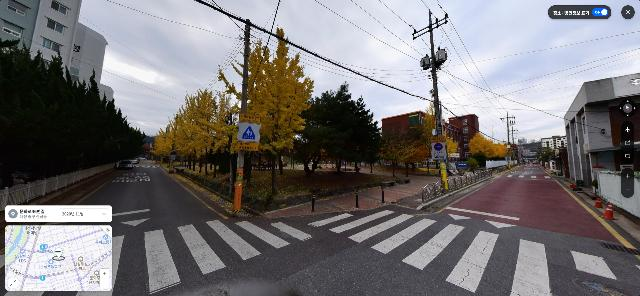ginkgo: (216, 26, 314, 198), (196, 97, 236, 181), (188, 88, 220, 176), (422, 101, 460, 173), (179, 93, 207, 174), (171, 105, 195, 171), (378, 127, 406, 177), (163, 116, 186, 170), (396, 127, 420, 175), (413, 125, 436, 173), (468, 132, 493, 169), (159, 127, 175, 168), (153, 133, 168, 165), (487, 139, 508, 159)
other: (0, 39, 145, 188), (292, 81, 383, 179)
